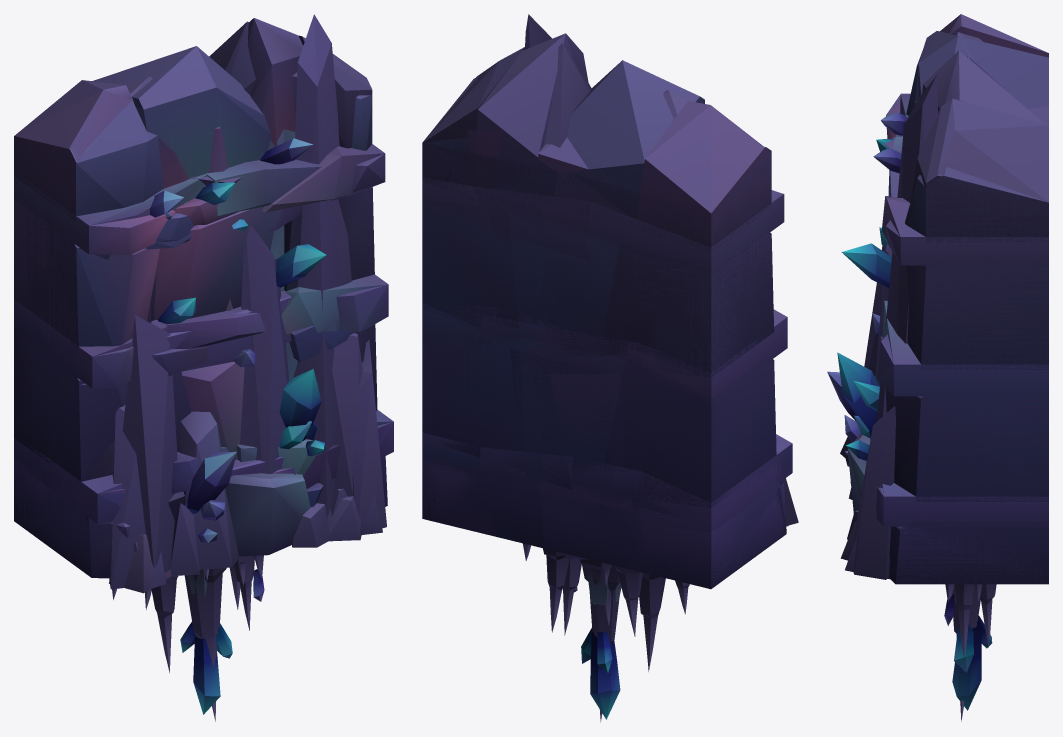
Rendered from env_crystal.glb.
3 renders of one model, left to right at view 1: azimuth 30°, elevation 25°; view 2: azimuth 150°, elevation 25°; view 3: azimuth 270°, elevation 25°, orthographic. The views are drawn at different scales.
Visible parts, largest first — view 1: cave_wall_a, cave_wall_b, cave_wall_d, cave_wall_c, stalactite_c, stalactite_a, stalactite_b; view 2: cave_wall_a, cave_wall_b, cave_wall_c, cave_wall_d, stalactite_c, stalactite_b, stalactite_a; view 3: cave_wall_a, cave_wall_b, cave_wall_d, cave_wall_c, stalactite_c, stalactite_a, stalactite_b.
Boxes of the visible parts, x1=… form: cave_wall_a: x1=14, y1=46, x2=389, y2=576; cave_wall_b: x1=14, y1=14, x2=393, y2=593; cave_wall_d: x1=14, y1=18, x2=392, y2=589; cave_wall_c: x1=14, y1=76, x2=393, y2=588; stalactite_c: x1=145, y1=555, x2=264, y2=714; stalactite_a: x1=174, y1=556, x2=247, y2=721; stalactite_b: x1=112, y1=556, x2=254, y2=673; cave_wall_a: x1=422, y1=60, x2=792, y2=589; cave_wall_b: x1=422, y1=14, x2=788, y2=588; cave_wall_c: x1=422, y1=76, x2=792, y2=587; cave_wall_d: x1=422, y1=33, x2=798, y2=587; stalactite_c: x1=574, y1=559, x2=642, y2=719; stalactite_b: x1=522, y1=543, x2=689, y2=671; stalactite_a: x1=543, y1=548, x2=619, y2=722; cave_wall_a: x1=837, y1=14, x2=1048, y2=584; cave_wall_b: x1=827, y1=56, x2=1048, y2=584; cave_wall_d: x1=841, y1=50, x2=1048, y2=583; cave_wall_c: x1=845, y1=32, x2=1048, y2=584; stalactite_c: x1=944, y1=584, x2=992, y2=710; stalactite_a: x1=952, y1=584, x2=996, y2=721; stalactite_b: x1=954, y1=584, x2=982, y2=658.
Size of the model in its own units: 4 by 8.99 by 2.62.
